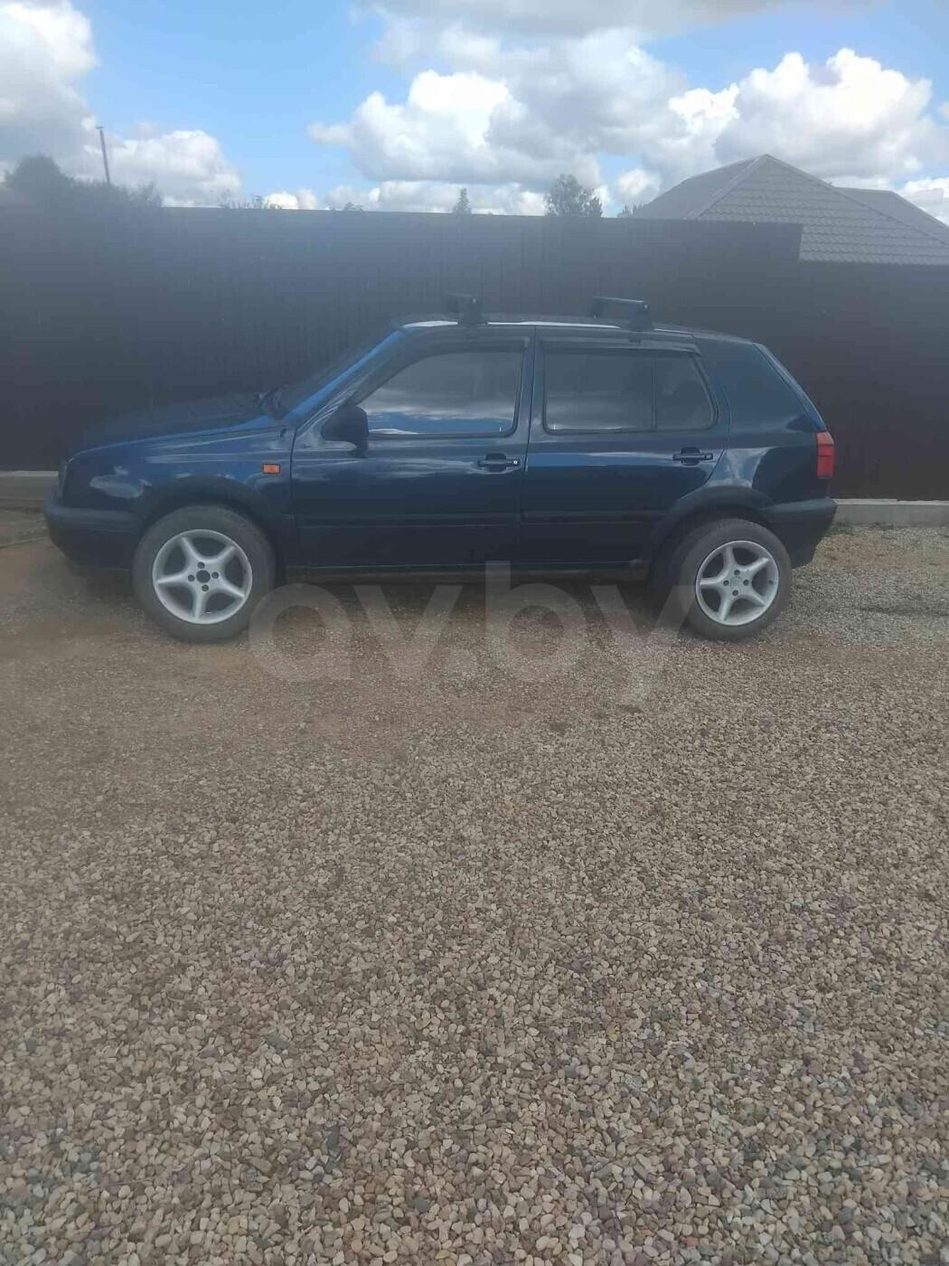Golf_1991-2000: (45, 285, 847, 654)
